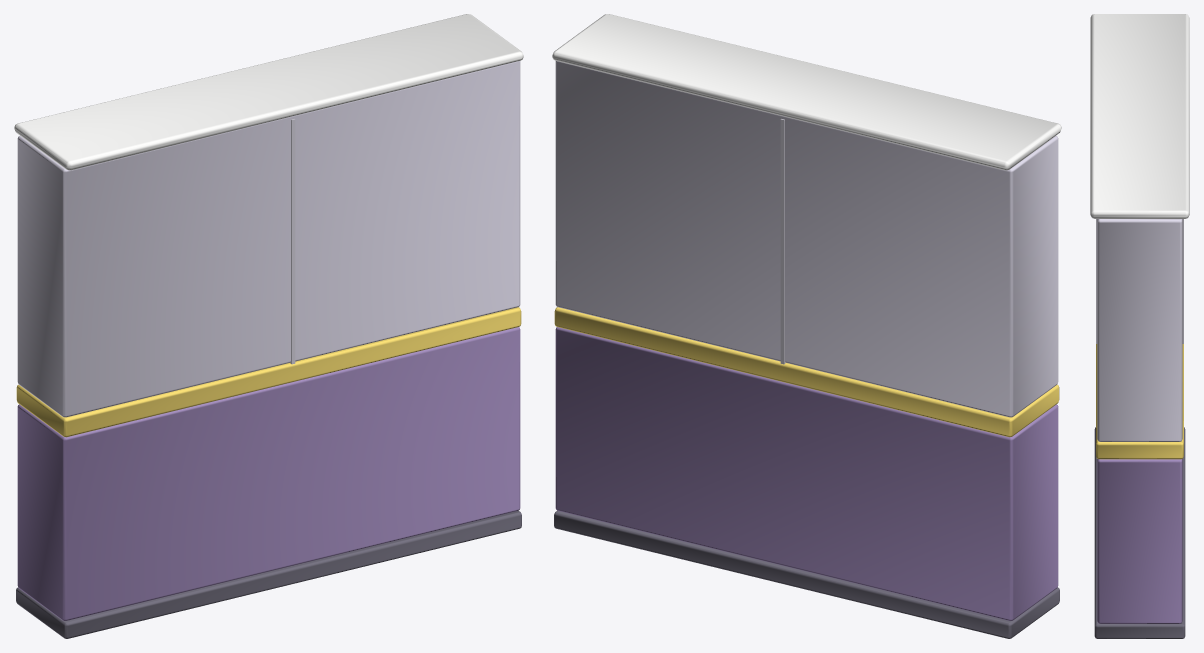
File: pared_recta.glb
The picture shows the model from 3 angles, left to right: view 1: azimuth 30°, elevation 25°; view 2: azimuth 150°, elevation 25°; view 3: azimuth 270°, elevation 25°; orthographic projection. The views are drawn at different scales.
Visible parts, largest first — view 1: p_alta, p_zocalo, p_remate, p_franja, p_rodapie, p_junta1-1; view 2: p_alta, p_zocalo, p_remate, p_franja, p_rodapie, p_junta11; view 3: p_remate, p_alta, p_zocalo, p_rodapie, p_franja, p_junta1-1, p_junta11.
Boxes of the visible parts, box(x1,y1,x2,y2) form: p_alta: box(17, 61, 520, 417); p_zocalo: box(17, 327, 520, 620); p_remate: box(14, 14, 523, 170); p_franja: box(16, 307, 521, 437); p_rodapie: box(16, 510, 521, 638); p_junta1-1: box(290, 119, 295, 364); p_alta: box(555, 61, 1058, 417); p_zocalo: box(555, 327, 1058, 620); p_remate: box(552, 14, 1061, 170); p_franja: box(554, 307, 1059, 437); p_rodapie: box(554, 510, 1059, 638); p_junta11: box(780, 119, 785, 364); p_remate: box(1090, 14, 1189, 218); p_alta: box(1097, 219, 1182, 441); p_zocalo: box(1097, 459, 1182, 623); p_rodapie: box(1094, 427, 1185, 638); p_franja: box(1096, 344, 1183, 459); p_junta1-1: box(1096, 219, 1097, 343); p_junta11: box(1182, 219, 1183, 343).
Size of the model in its own units: 1 by 1 by 0.21.
